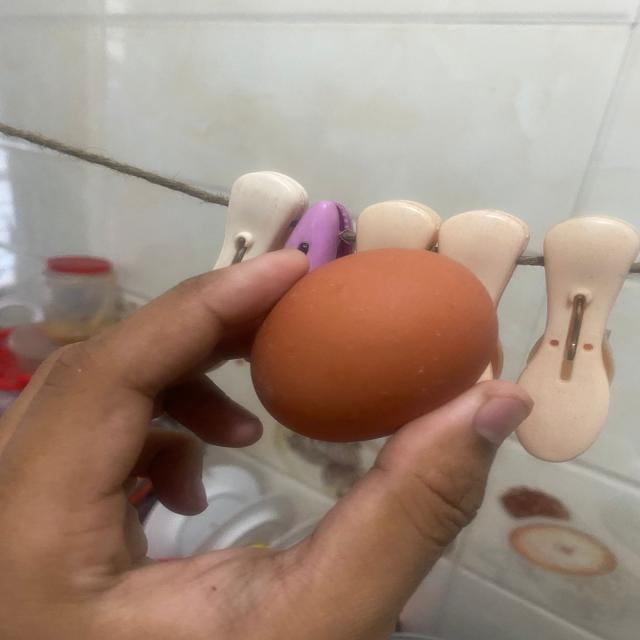egg: (248, 246, 504, 446)
